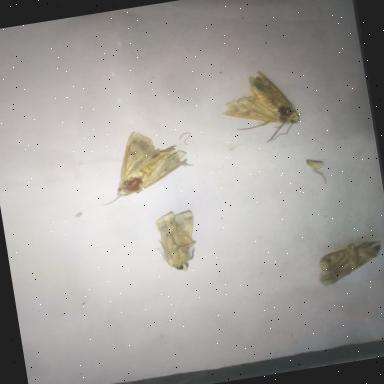abw: (92, 120, 200, 206), (215, 65, 303, 149), (151, 206, 203, 278), (314, 236, 384, 287)
